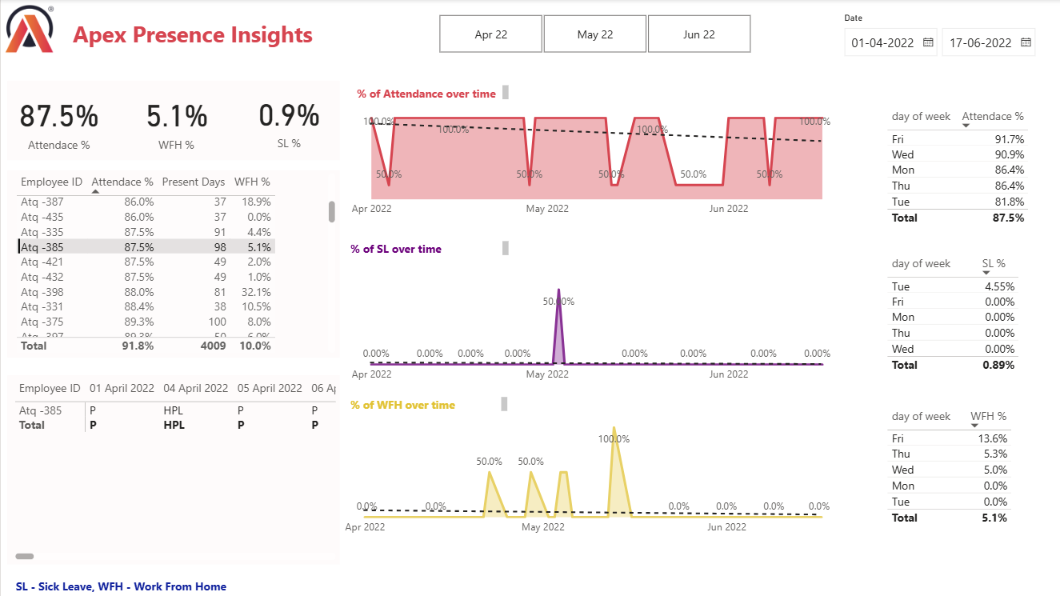

The dashboard page shown, as its layout file describes it:
{"tool":"powerbi","page":{"name":"Presence Insights","canvas":[1280,720],"ordinal":0},"visuals":[{"type":"textbox","box":[7.8,205.6,399.9,225.5],"z":0},{"type":"textbox","box":[7.8,453.3,399.8,227.6],"z":1000},{"type":"textbox","box":[7.8,98,399.9,95.4],"z":3000},{"type":"tableEx","fields":{"Values":["Final Data.Employee ID","Measures (2).Attendace %","Measures (2).Present Days","Measures (2).WFH %"]},"box":[12.6,205.2,394.9,225.7],"z":4000},{"type":"slicer","fields":{"Values":["Final Data.Date"]},"box":[1002.1,11,269.2,64.9],"z":5000},{"type":"slicer","fields":{"Values":["Final Data.MMM YY"]},"box":[502.4,12.4,423.7,59.4],"z":6000},{"type":"areaChart","fields":{"Category":["Final Data.MMM YY","Final Data.Date"],"Y":["Measures (2).WFH %"]},"box":[408.6,501,608.7,153.2],"z":7000},{"type":"areaChart","fields":{"Category":["Final Data.WeekNo","Final Data.Date"],"Y":["Measures (2).Attendace %"]},"box":[415.5,128.4,601.8,142.2],"z":8000},{"type":"card","fields":{"Values":["Measures (2).Attendace %"]},"box":[7.8,98,124,96.3],"z":9000},{"type":"card","fields":{"Values":["Measures (2).WFH %"]},"box":[141.4,98,138.8,96.3],"z":10000},{"type":"areaChart","fields":{"Category":["Final Data.MMM YY","Final Data.Date"],"Y":["Measures (2).SL %"]},"box":[415.5,317.5,601.8,153.2],"z":11000},{"type":"image","box":[0,0,70,71],"z":12000},{"type":"card","fields":{"Values":["Measures (2).SL %"]},"box":[286.3,97.2,121.4,96.3],"z":13000},{"type":"textbox","box":[70.3,0,320.1,71.1],"z":14000},{"type":"textbox","box":[415.5,98,200.1,27.6],"z":15000},{"type":"textbox","box":[415.5,285.7,200.1,27.6],"z":16000},{"type":"textbox","box":[415.5,473.4,198.8,27.6],"z":17000},{"type":"pivotTable","fields":{"Rows":["Final Data.Employee ID"],"Columns":["Final Data.Date"],"Values":["Min(Final Data.Value)"]},"box":[11.7,453.3,395.9,227.6],"z":18000},{"type":"textbox","box":[13.6,691.6,289.8,28.2],"z":19000},{"type":"tableEx","fields":{"Values":["Final Data.day of week","Measures (2).Attendace %"]},"box":[1061.4,125.6,209.8,160.1],"z":20000},{"type":"tableEx","fields":{"Values":["Final Data.day of week","Measures (2).SL %"]},"box":[1061.4,303.7,191.9,167],"z":21000},{"type":"tableEx","fields":{"Values":["Final Data.day of week","Measures (2).WFH %"]},"box":[1061.4,487.2,169.8,167],"z":22000}]}

Visuals, with their boxes in screenshot pixels (x1, y1, x2, y2), scaled from the page's 1280x720 canvas onto the 1060x596 screenshot:
textbox: (6,170,338,357)
textbox: (6,375,338,564)
textbox: (6,81,338,160)
tableEx - Final Data.Employee ID x Measures (2).Attendace %: (10,170,337,357)
slicer - Final Data.Date: (830,9,1053,63)
slicer - Final Data.MMM YY: (416,10,767,59)
areaChart - Final Data.MMM YY x Final Data.Date: (338,415,842,542)
areaChart - Final Data.WeekNo x Final Data.Date: (344,106,842,224)
card - Measures (2).Attendace %: (6,81,109,161)
card - Measures (2).WFH %: (117,81,232,161)
areaChart - Final Data.MMM YY x Final Data.Date: (344,263,842,390)
image: (0,0,58,59)
card - Measures (2).SL %: (237,80,338,160)
textbox: (58,0,323,59)
textbox: (344,81,510,104)
textbox: (344,236,510,259)
textbox: (344,392,509,415)
pivotTable - Final Data.Employee ID x Final Data.Date: (10,375,338,564)
textbox: (11,572,251,595)
tableEx - Final Data.day of week x Measures (2).Attendace %: (879,104,1053,236)
tableEx - Final Data.day of week x Measures (2).SL %: (879,251,1038,390)
tableEx - Final Data.day of week x Measures (2).WFH %: (879,403,1020,542)
